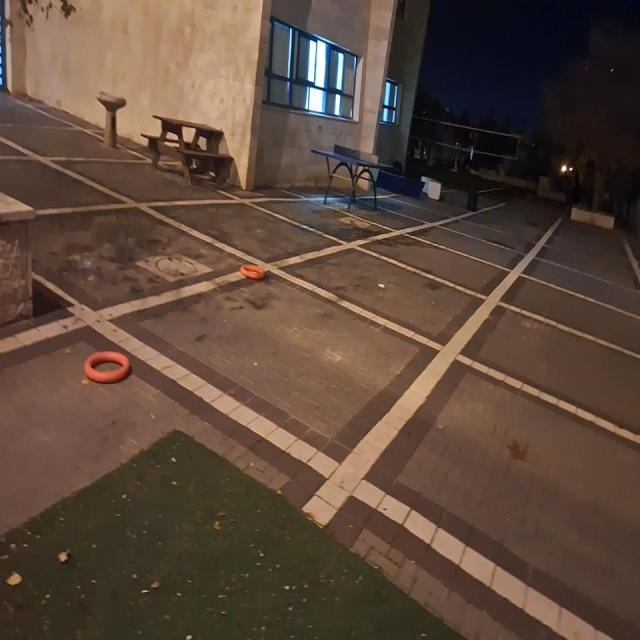note: (85, 349, 130, 384), (240, 263, 262, 279)
